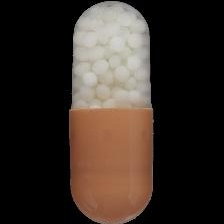0555-0955: (0, 0, 224, 224)
